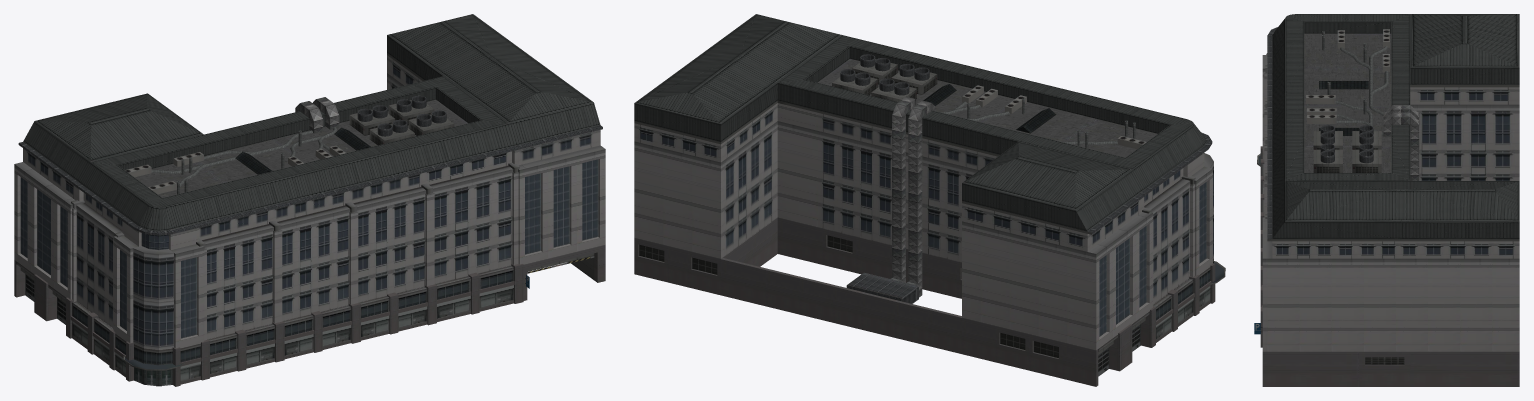
Rendered from office2.glb.
3 renders of one model, left to right at view 1: azimuth 30°, elevation 25°; view 2: azimuth 150°, elevation 25°; view 3: azimuth 270°, elevation 25°, orthographic. The views are drawn at different scales.
Visible parts, largest first — view 1: AIT01W2W4_AIT01W2W4_0; view 2: AIT01W2W4_AIT01W2W4_0; view 3: AIT01W2W4_AIT01W2W4_0.
Boxes of the visible parts, <box> form: AIT01W2W4_AIT01W2W4_0: <box>14,14,605,386</box>; AIT01W2W4_AIT01W2W4_0: <box>634,14,1225,386</box>; AIT01W2W4_AIT01W2W4_0: <box>1254,14,1519,386</box>.
Bounding box in the file's own units: 6471 × 2509 × 3304.
Materials: 1 (1 with a texture image).
